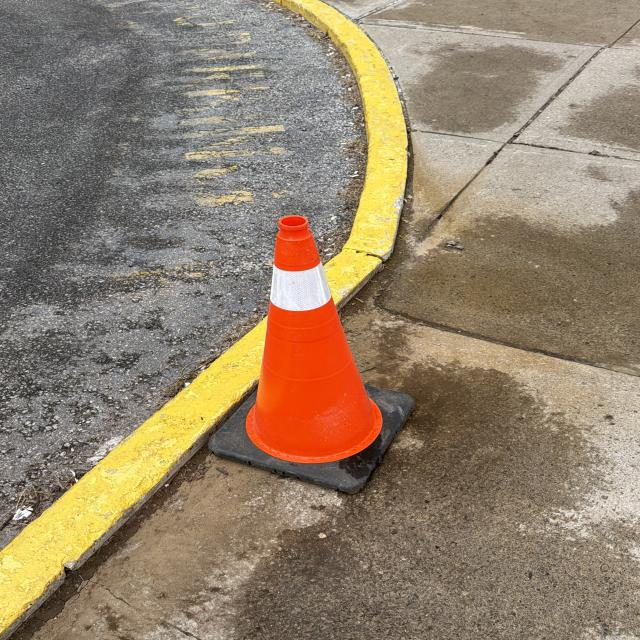Traffic Cone: (204, 213, 415, 493)
